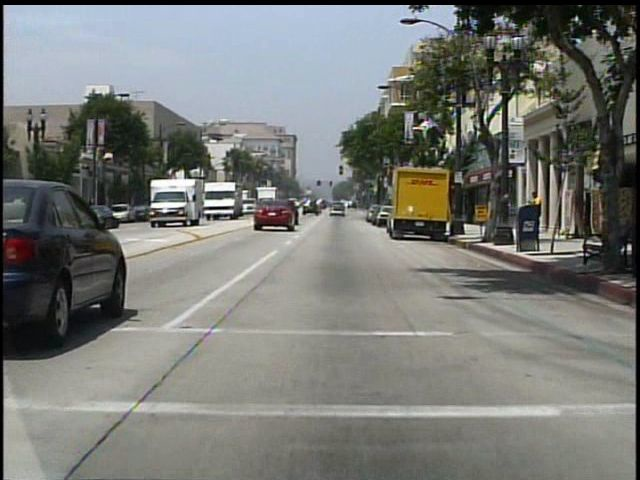person: (526, 191, 542, 236)
